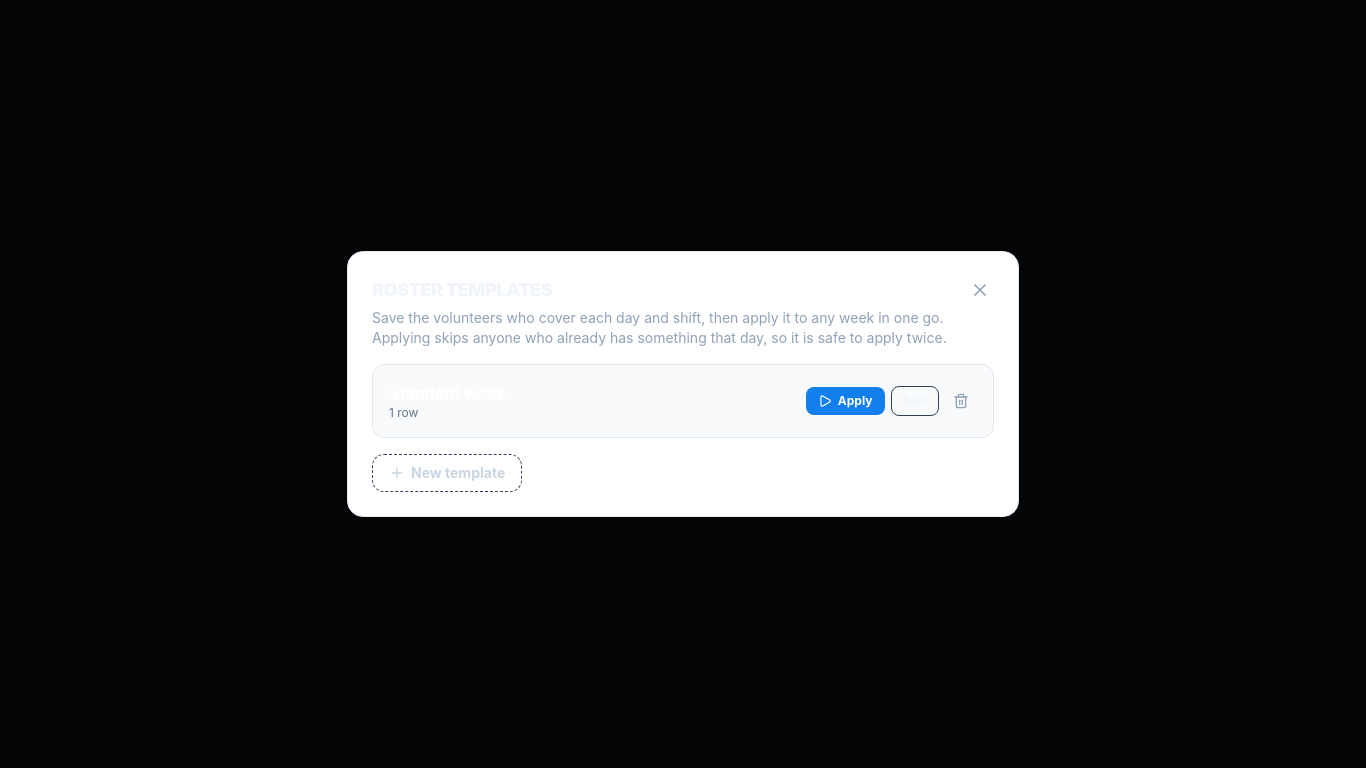
RosterTemplatesModal › applies a template to the default week and reports what happened
Click the button "Apply": (845, 401) [806,387,884,415]
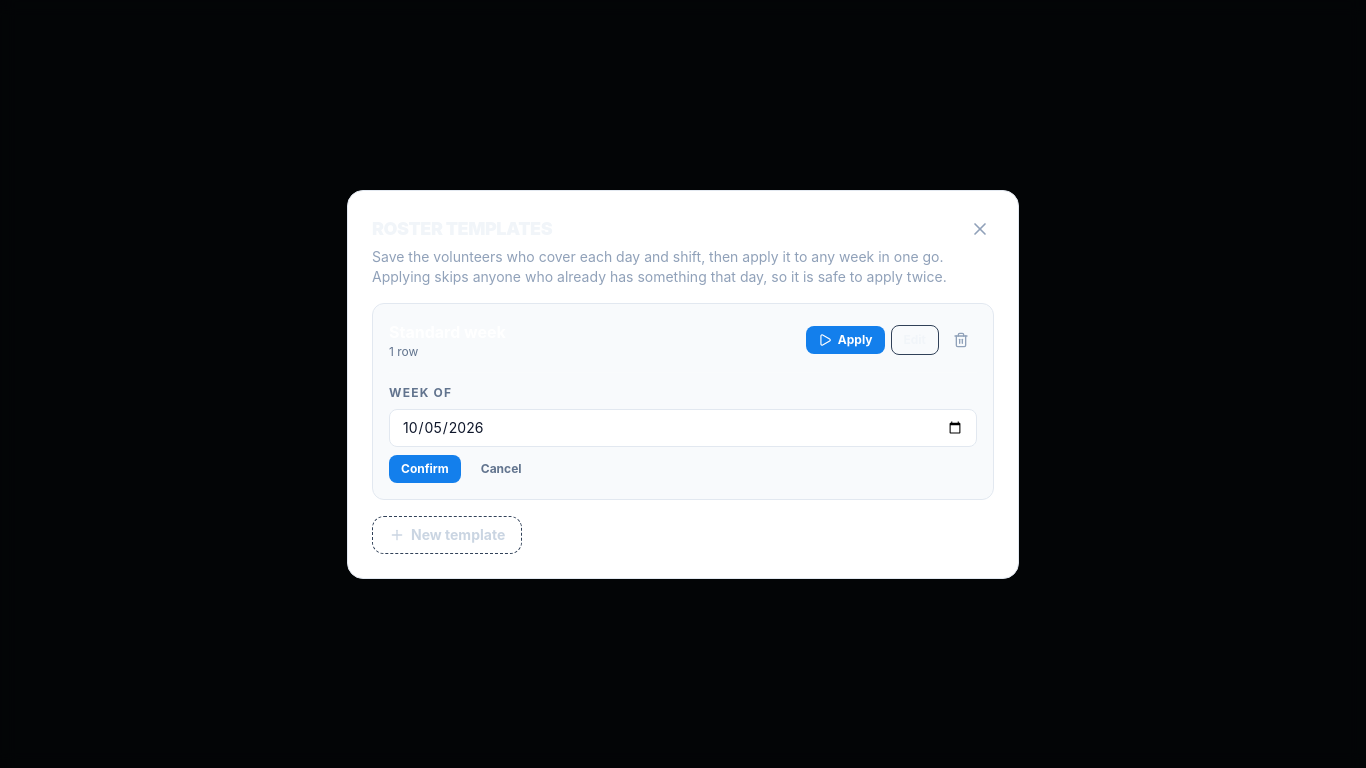
Now the date field labelled "Week of" holds "2026-10-05", box [389,408,977,446]
Click the button "Confirm": (425, 468) [389,454,461,482]
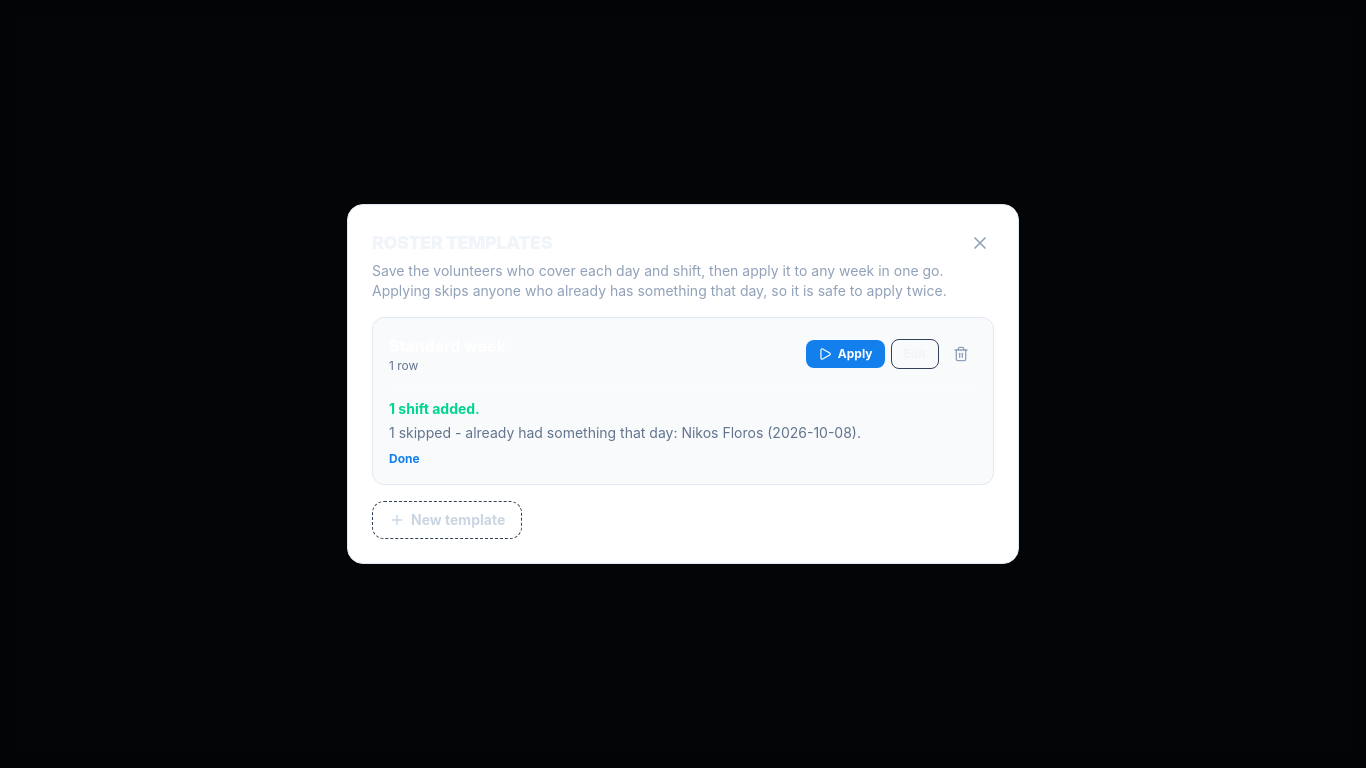
Now the text "1 shift added." is shown, box [389,400,480,417]
Now the text "1 skipped" is shown, box [389,424,861,441]
